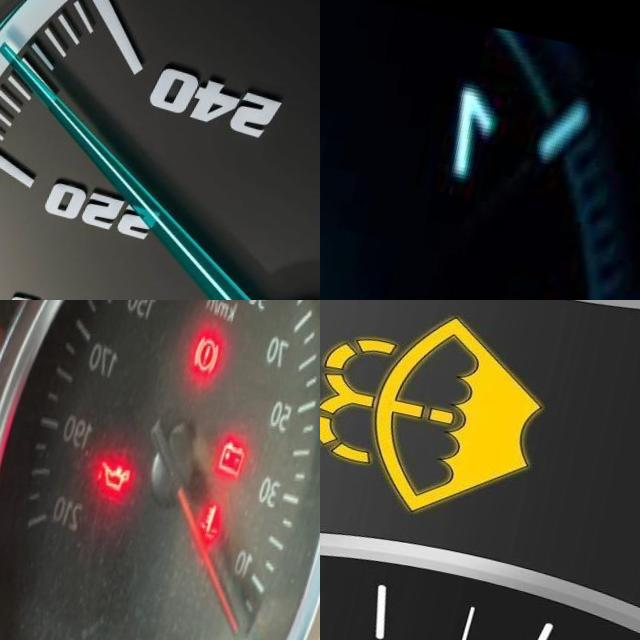High Engine Coolant Temperature: (211, 479, 245, 537)
Washer Fluid: (320, 300, 570, 519)
